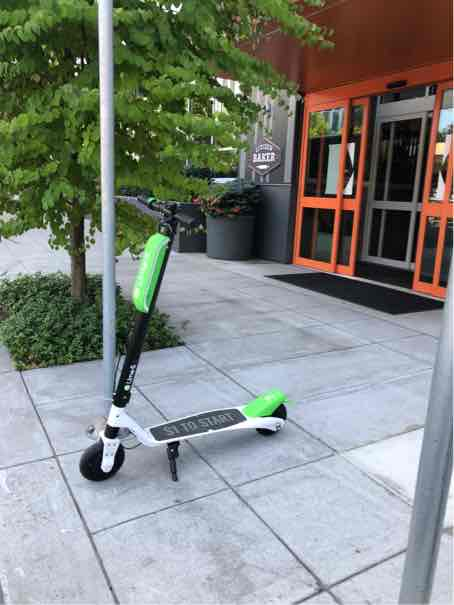scooter: (72, 186, 294, 497)
